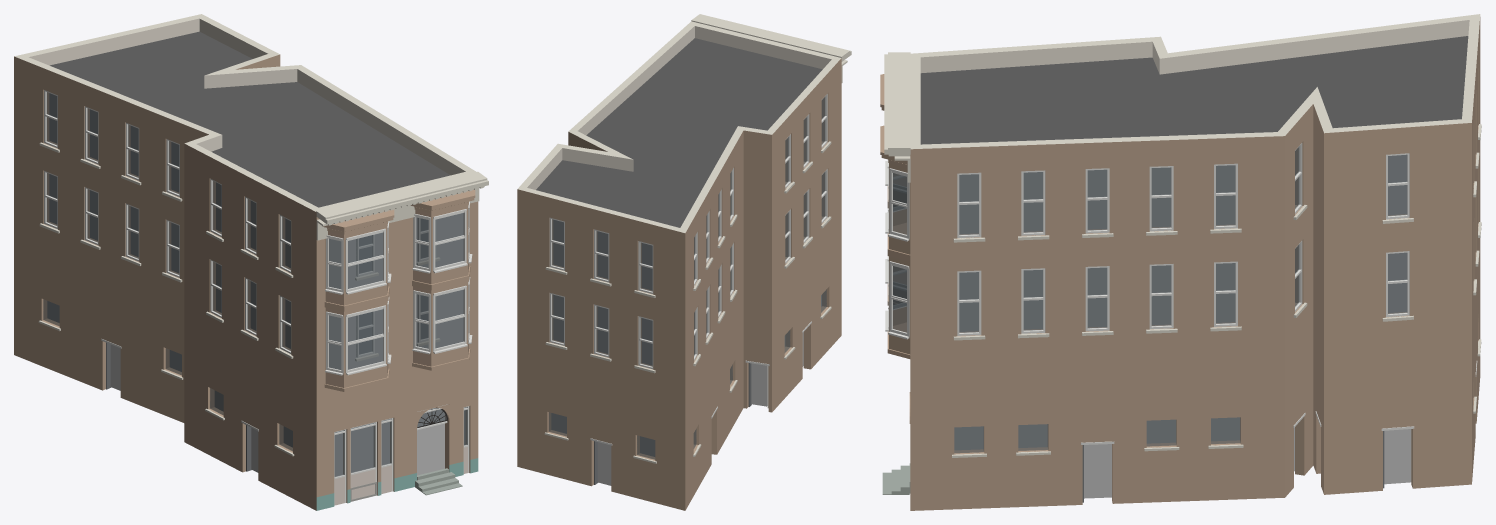
File: exterior.glb
The picture shows the model from 3 angles, left to right: view 1: azimuth 30°, elevation 25°; view 2: azimuth 150°, elevation 25°; view 3: azimuth 270°, elevation 25°; orthographic projection. The views are drawn at different scales.
Visible parts, largest first — view 1: shell, roof, shadow-proxy, bay-glazing-hyb, glazing, bay-windows-hyb, frames, dentil-cornice, storefront, trim, hyC-arches-1; view 2: shell, roof, glazing, shadow-proxy, frames, dentil-cornice, trim, storefront; view 3: shell, roof, shadow-proxy, glazing, frames, bay-glazing-hyb, bay-windows-hyb, trim, dentil-cornice, hyC-arches-1.
Boxes of the visible parts, x1=… form: shell: x1=14, y1=14, x2=478, y2=510; roof: x1=50, y1=31, x2=450, y2=207; shadow-proxy: x1=47, y1=93, x2=463, y2=476; bay-glazing-hyb: x1=325, y1=201, x2=472, y2=375; glazing: x1=43, y1=92, x2=467, y2=476; bay-windows-hyb: x1=322, y1=189, x2=475, y2=391; frames: x1=44, y1=90, x2=435, y2=357; dentil-cornice: x1=316, y1=171, x2=488, y2=240; storefront: x1=101, y1=339, x2=469, y2=505; trim: x1=38, y1=142, x2=439, y2=456; hyC-arches-1: x1=415, y1=404, x2=462, y2=495; shell: x1=517, y1=21, x2=841, y2=510; roof: x1=536, y1=38, x2=822, y2=227; glazing: x1=549, y1=96, x2=826, y2=459; shadow-proxy: x1=551, y1=220, x2=821, y2=485; frames: x1=549, y1=94, x2=827, y2=369; dentil-cornice: x1=691, y1=14, x2=851, y2=82; trim: x1=544, y1=141, x2=831, y2=463; storefront: x1=590, y1=321, x2=811, y2=484; shell: x1=910, y1=14, x2=1480, y2=510; roof: x1=920, y1=36, x2=1468, y2=144; shadow-proxy: x1=954, y1=155, x2=1411, y2=498; glazing: x1=954, y1=146, x2=1407, y2=453; frames: x1=957, y1=143, x2=1409, y2=335; bay-glazing-hyb: x1=885, y1=159, x2=909, y2=339; bay-windows-hyb: x1=880, y1=74, x2=910, y2=358; trim: x1=952, y1=124, x2=1481, y2=457; dentil-cornice: x1=884, y1=52, x2=910, y2=182; hyC-arches-1: x1=882, y1=392, x2=910, y2=494.
Bounding box in the file's own units: 10.61 × 13.28 × 19.93.
